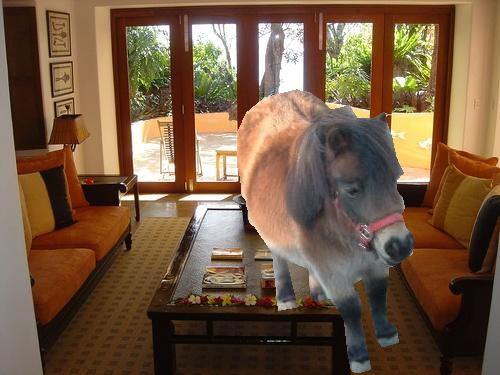tampered: (238, 90, 414, 373)
